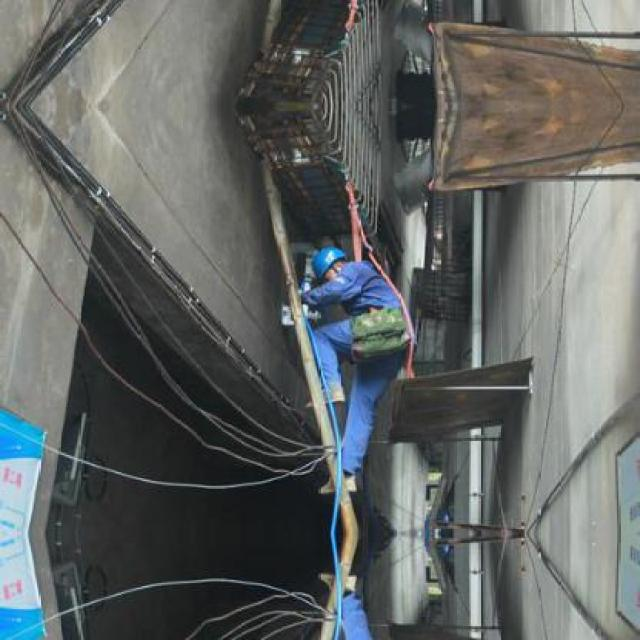helmet: (306, 244, 356, 282)
